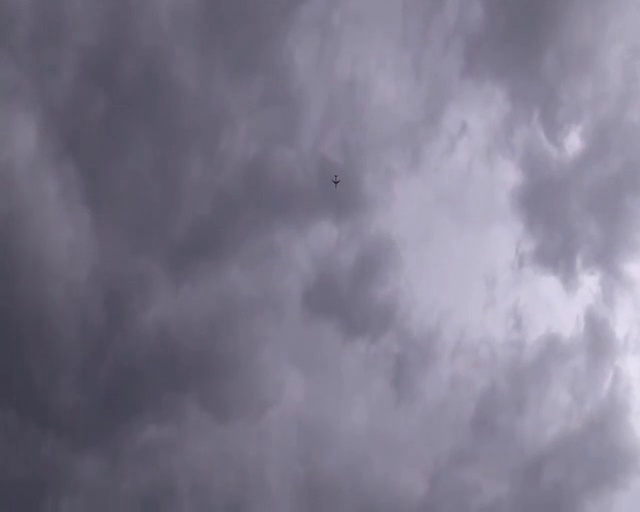AIRPLANE: (330, 172, 341, 186)
